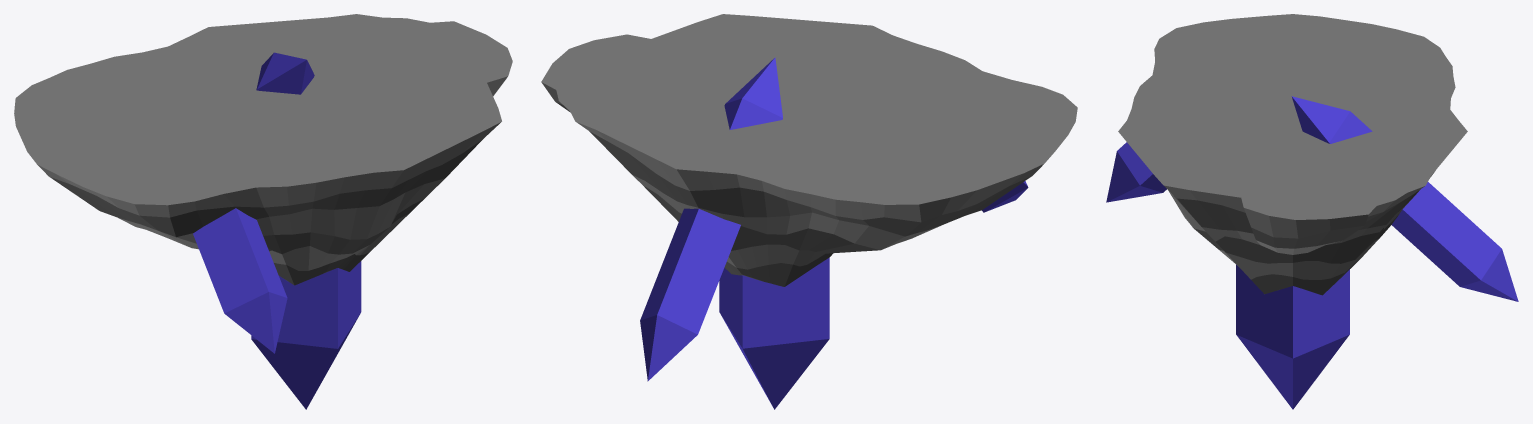
The model's file is island_nonplayable6.fbx.
The picture shows the model from 3 angles, left to right: view 1: azimuth 30°, elevation 25°; view 2: azimuth 150°, elevation 25°; view 3: azimuth 270°, elevation 25°; orthographic projection. The views are drawn at different scales.
Parts seen in each view (by area): view 1: island_nonplayable6_rocks, island_nonplayable6_crystals; view 2: island_nonplayable6_rocks, island_nonplayable6_crystals; view 3: island_nonplayable6_rocks, island_nonplayable6_crystals.
Boxes of the visible parts, x1=… form: island_nonplayable6_rocks: x1=14, y1=14, x2=512, y2=285; island_nonplayable6_crystals: x1=193, y1=52, x2=361, y2=409; island_nonplayable6_rocks: x1=541, y1=14, x2=1077, y2=286; island_nonplayable6_crystals: x1=640, y1=57, x2=1028, y2=409; island_nonplayable6_rocks: x1=1118, y1=14, x2=1467, y2=295; island_nonplayable6_crystals: x1=1106, y1=96, x2=1518, y2=409.
Bounding box in the file's own units: 8651 × 6141 × 7317.
